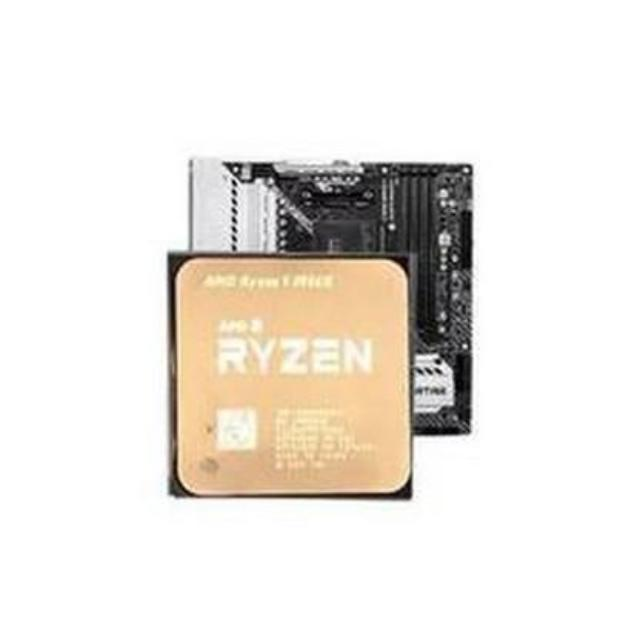CPU: (166, 255, 420, 508)
